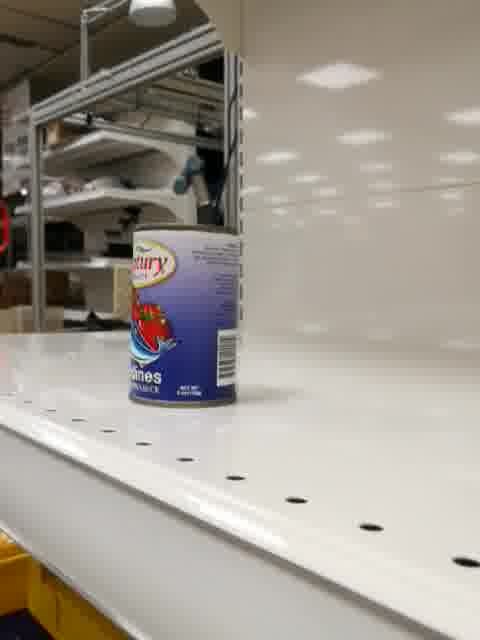sardine: (129, 226, 244, 409)
